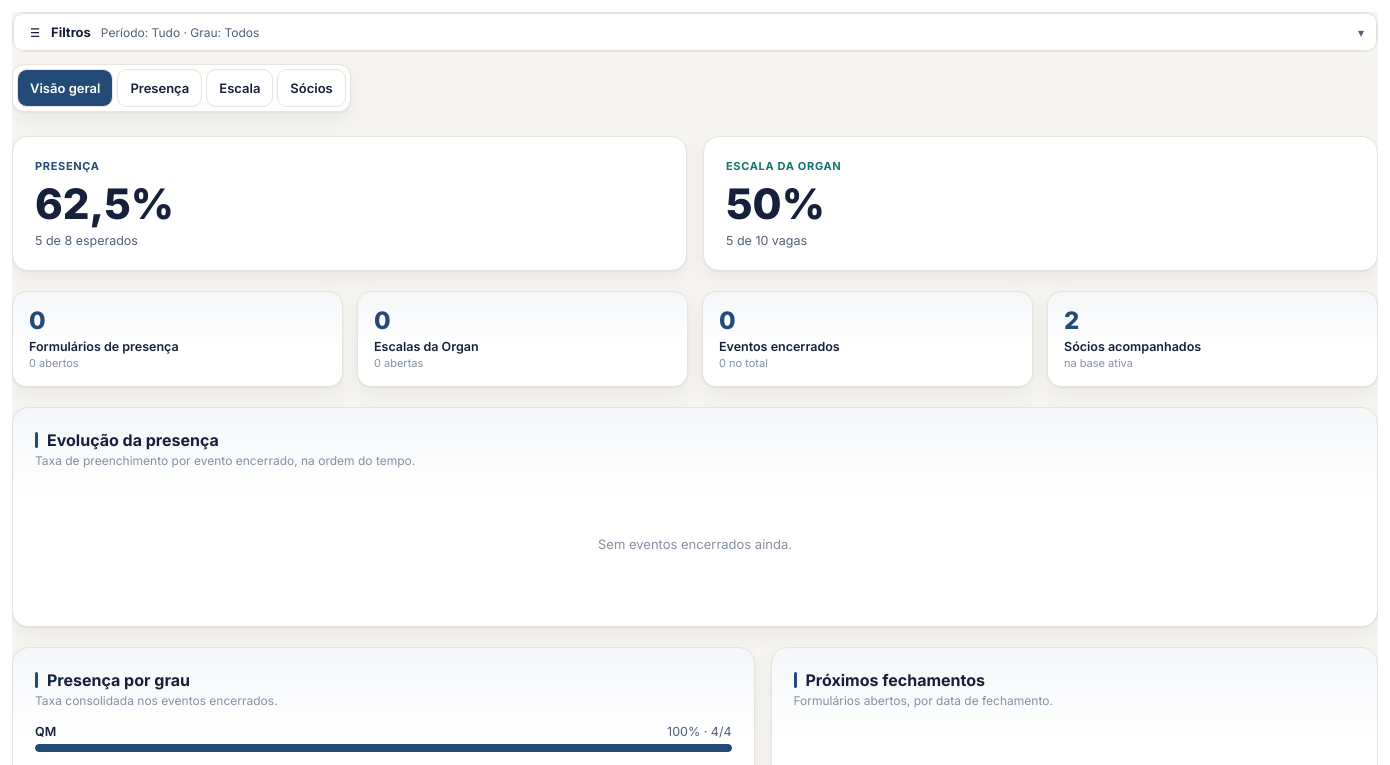
Scenario: DashboardScreen › mostra o foco na escala (sempre a mesma seção) na aba Escala
expect the text "50%" is shown: met, box [726, 178, 825, 229]
Click the tab "Escala".
click(240, 88)  # box [206, 69, 273, 107]
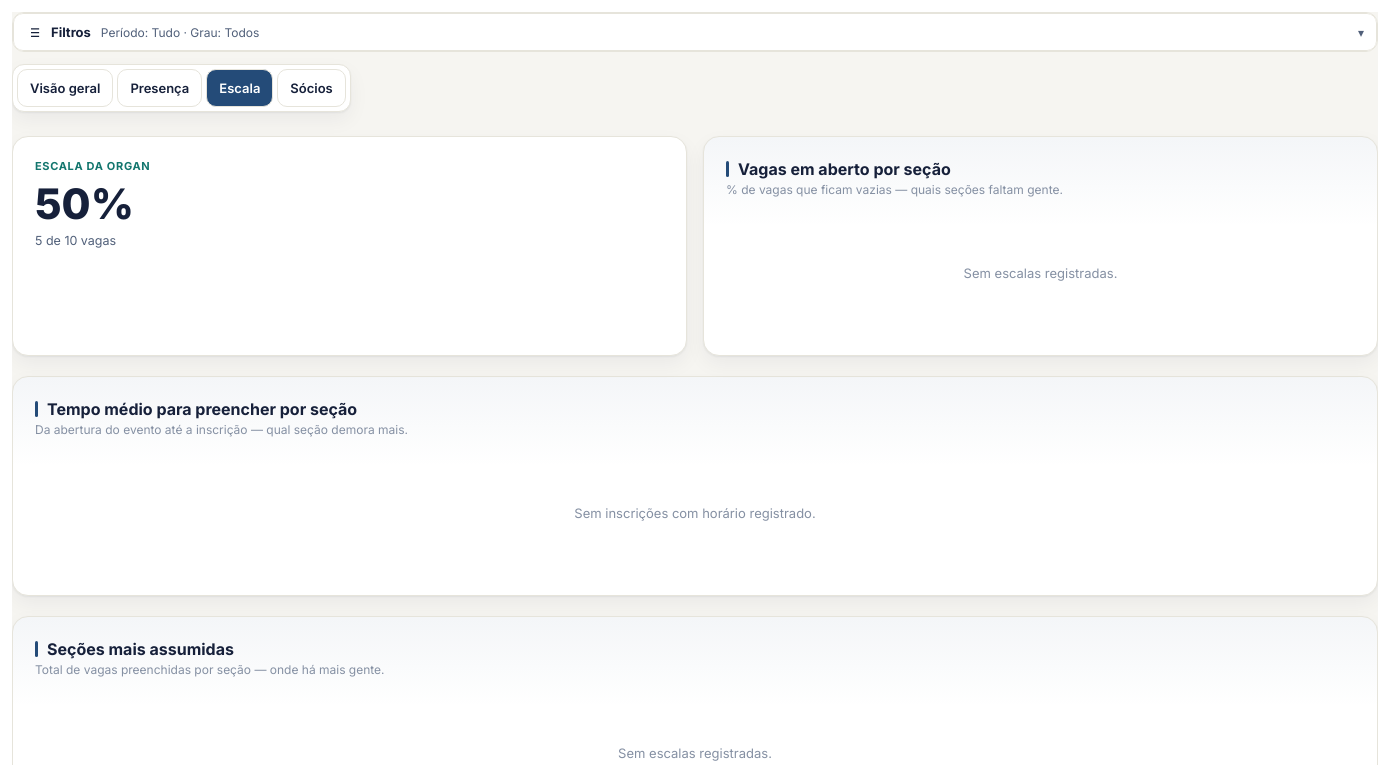
expect the text "Seções mais assumidas" is shown: met, box [47, 639, 234, 659]
